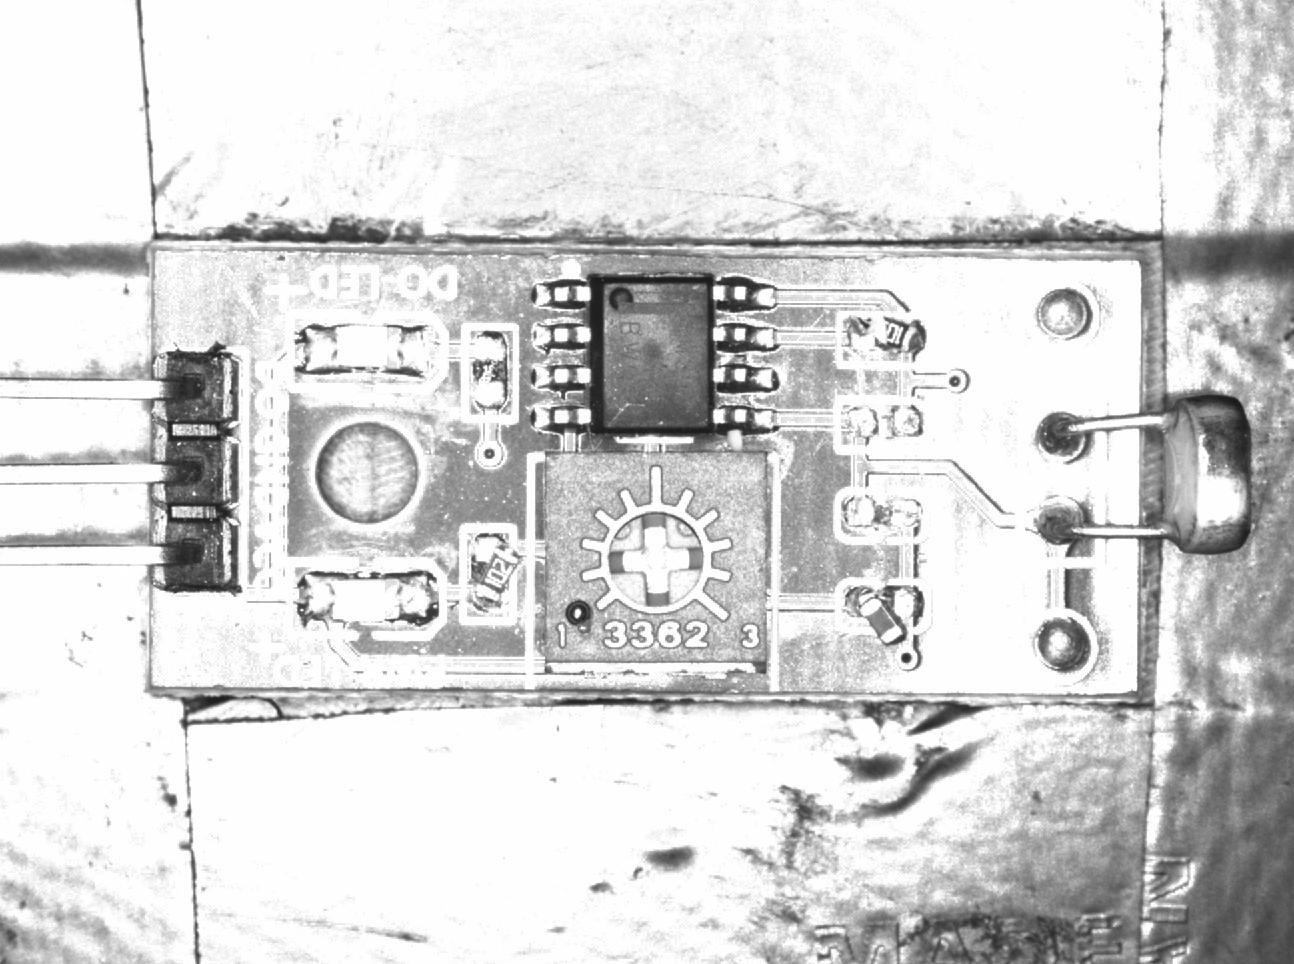bridge: (835, 399, 933, 459), (465, 323, 519, 419), (840, 487, 932, 542)
lifted: (834, 579, 931, 646), (465, 526, 521, 626), (840, 308, 928, 368)
